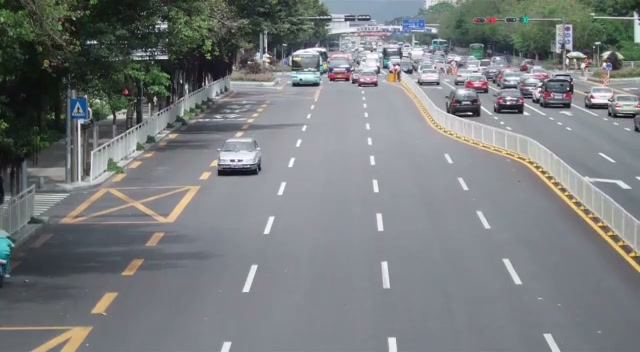bus: (290, 49, 324, 86)
car: (216, 137, 263, 175), (446, 88, 480, 117), (541, 78, 573, 108), (0, 229, 15, 287), (607, 93, 640, 118), (493, 90, 525, 114), (584, 86, 614, 109), (352, 69, 379, 87), (327, 63, 352, 82), (464, 74, 489, 93), (633, 109, 640, 132)
truck: (290, 49, 322, 86)
